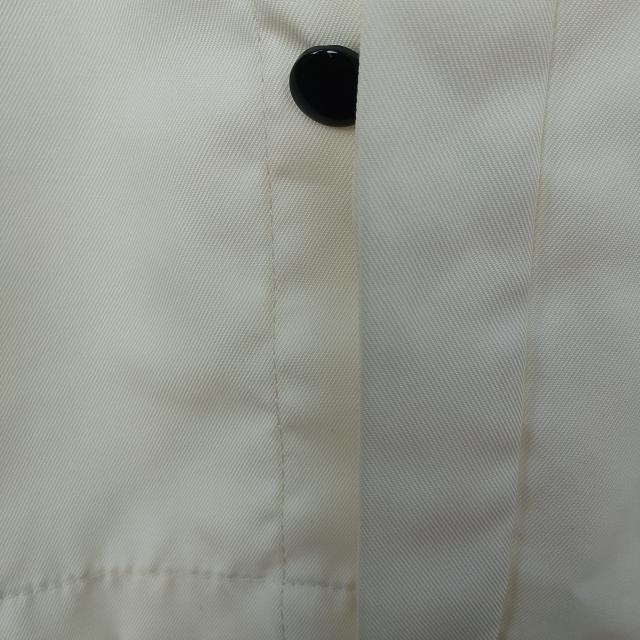education_male_uniform: (180, 0, 550, 305)
